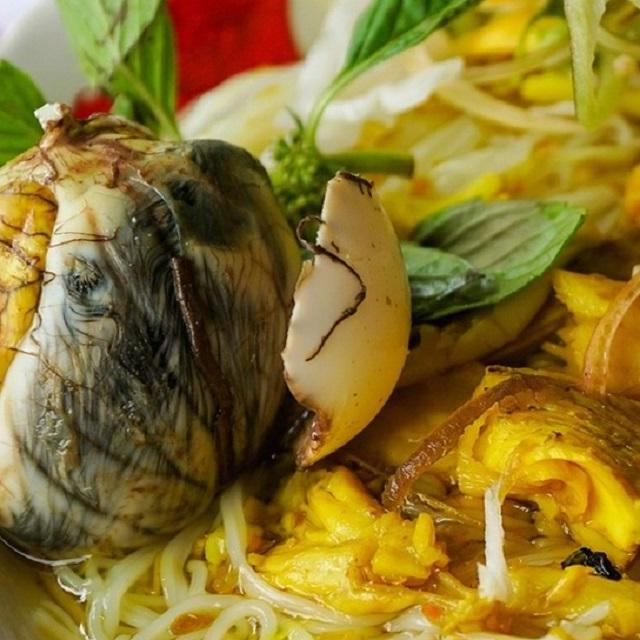bun: (35, 538, 615, 640)
bun ca: (0, 17, 640, 640)
ca: (423, 351, 640, 590), (546, 257, 640, 445)
